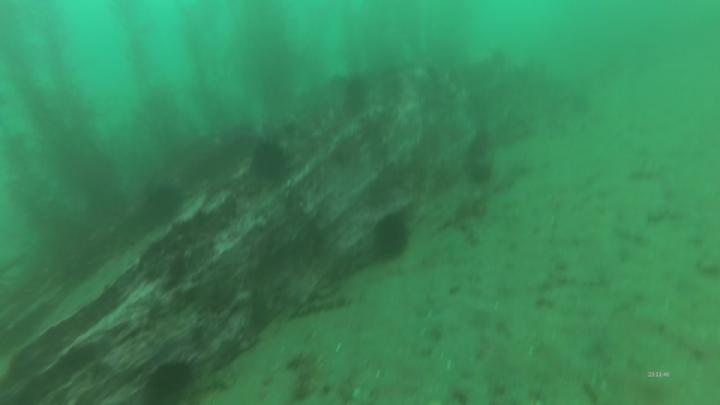echinus: (142, 351, 205, 404), (367, 209, 421, 269), (243, 135, 291, 178)
holothurian: (284, 351, 326, 403)
